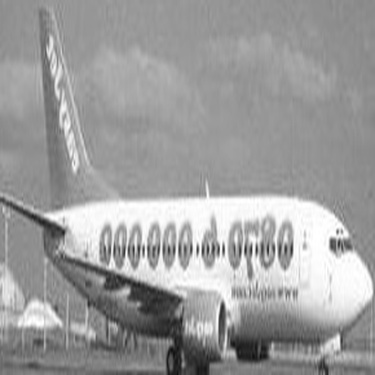airplane: (1, 1, 370, 373)
